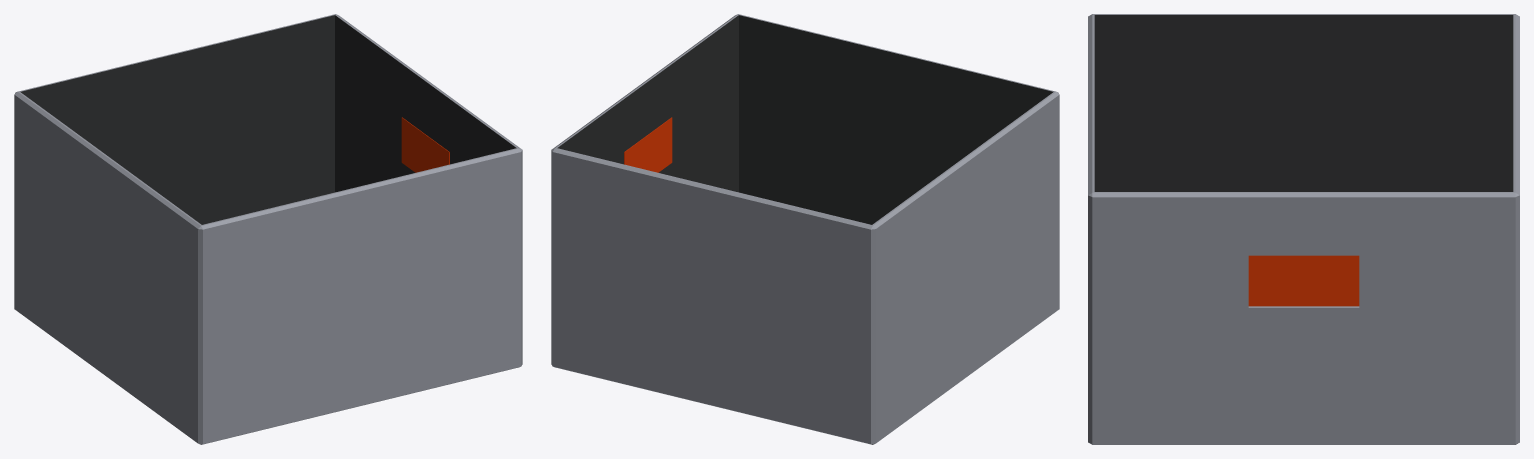
File: shell.dae
The picture shows the model from 3 angles, left to right: view 1: azimuth 30°, elevation 25°; view 2: azimuth 150°, elevation 25°; view 3: azimuth 270°, elevation 25°; orthographic projection. The views are drawn at different scales.
Visible parts, largest first — view 1: Shell; view 2: Shell; view 3: Shell.
Part boxes in pixels (x1,y1,x2,y2): Shell: (14,14,522,444); Shell: (551,14,1059,444); Shell: (1088,14,1519,444).
Bounding box in the file's own units: 0.45 × 0.45 × 0.29.
